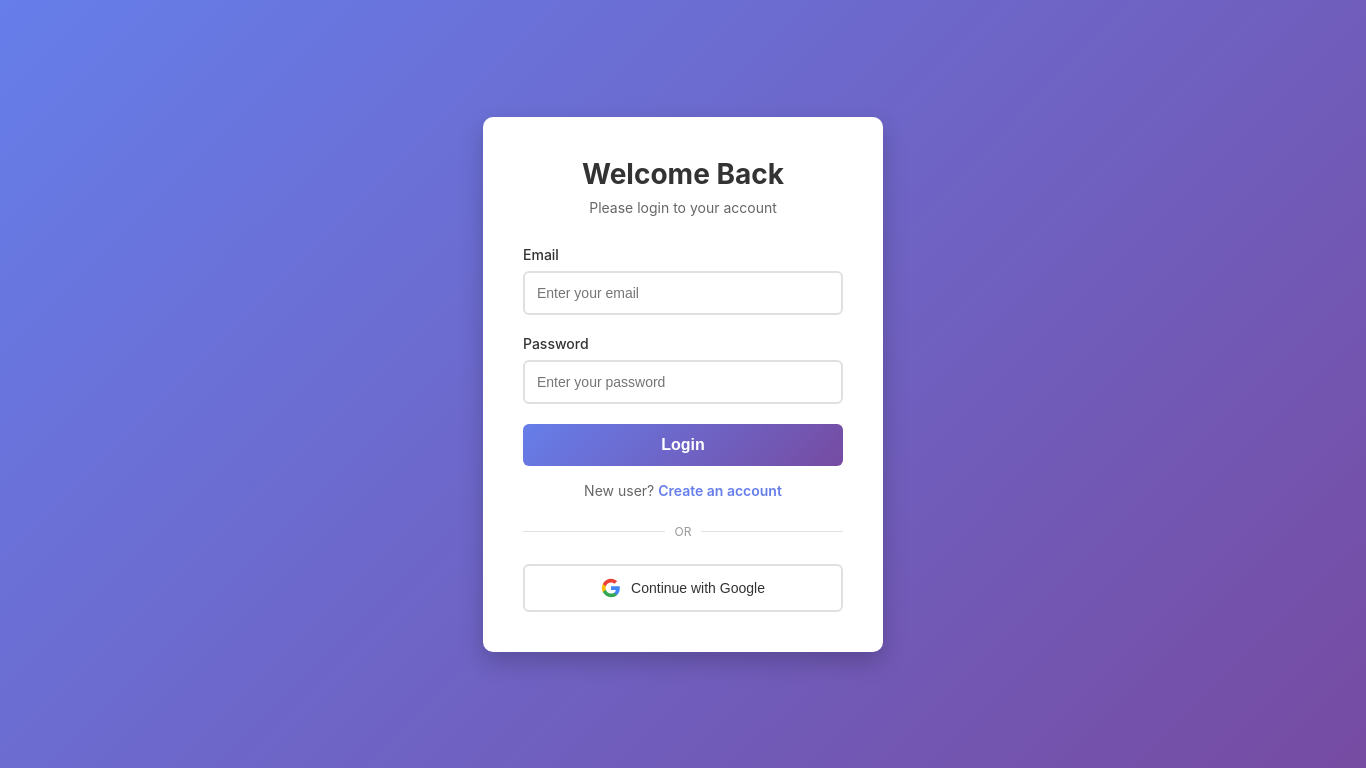
Login page › shows password required error when submitting with empty password
Type "user@example.com" into the field labelled "Email".
click(683, 292); type("user@example.com")  # box [523,270,843,314]
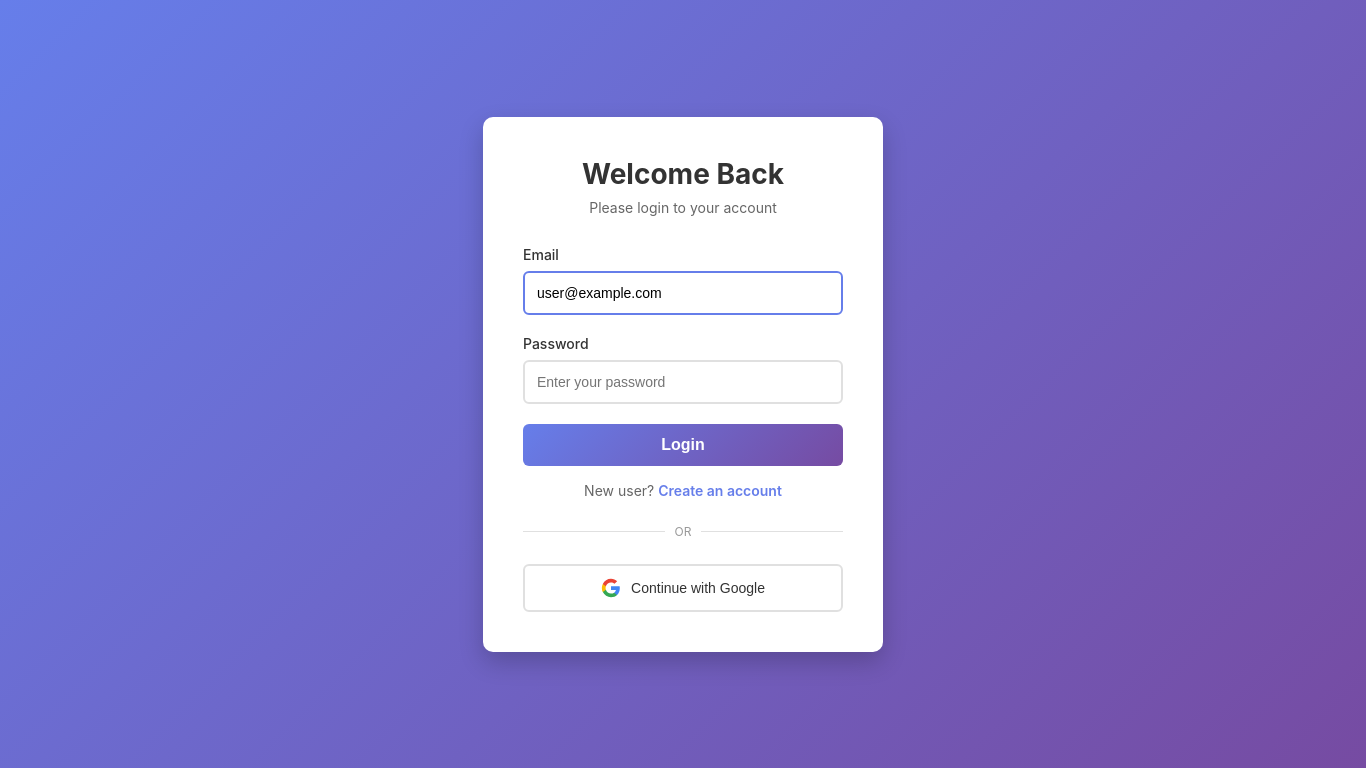
Click the button "Login".
click(683, 444)  # box [523,424,843,466]
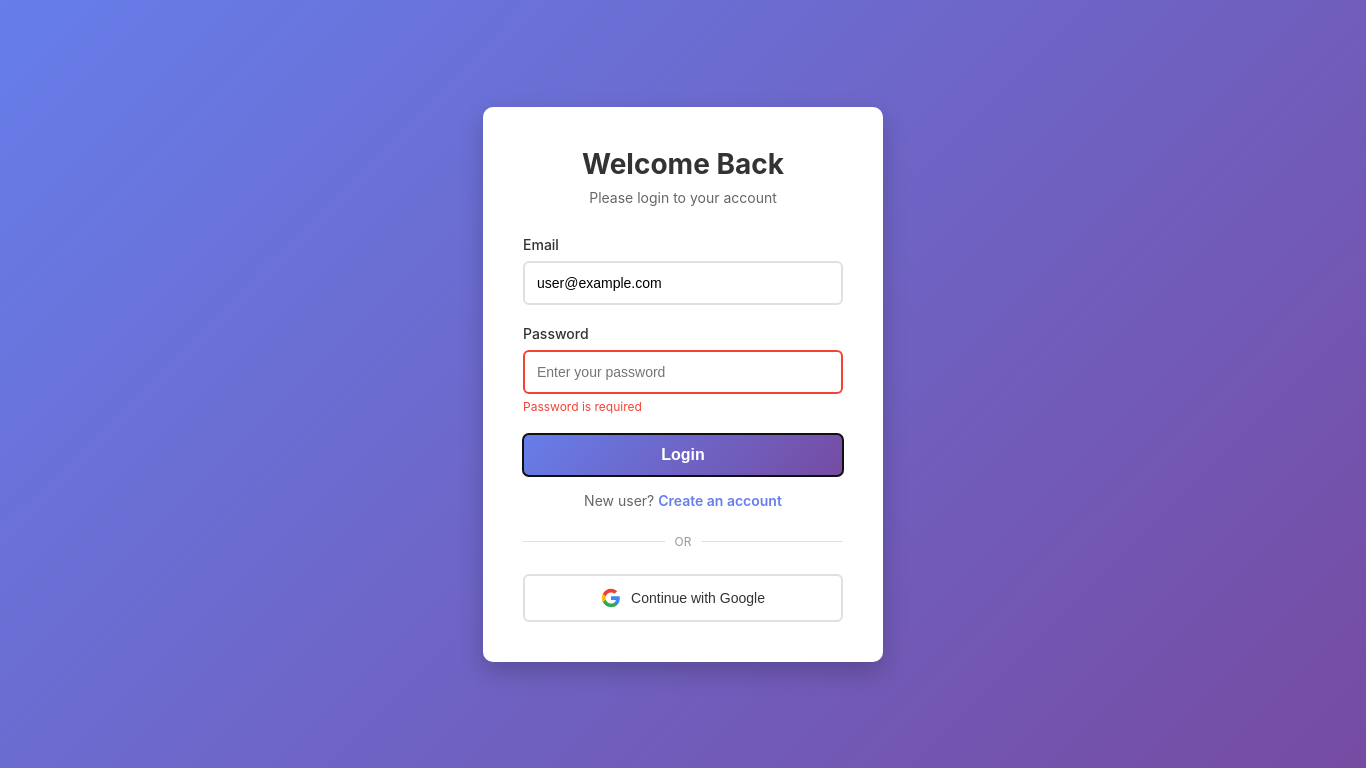
Now the text "Password is required" is shown, box [523,398,642,414]
